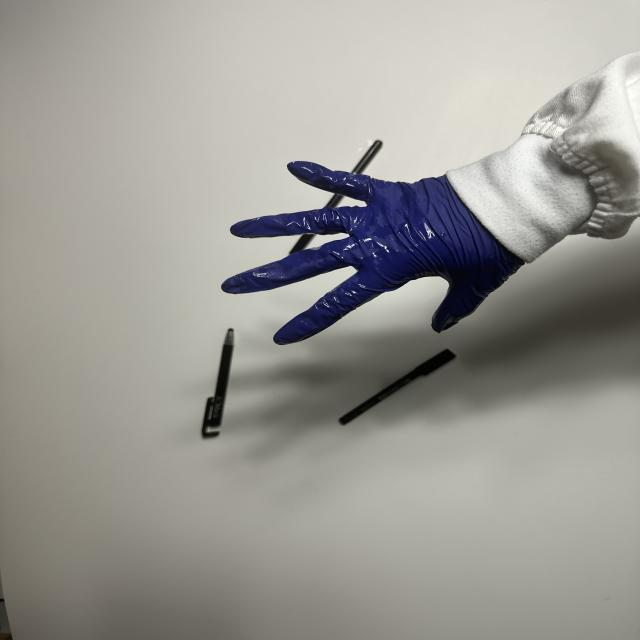gloves_contaminated: (222, 162, 524, 344)
